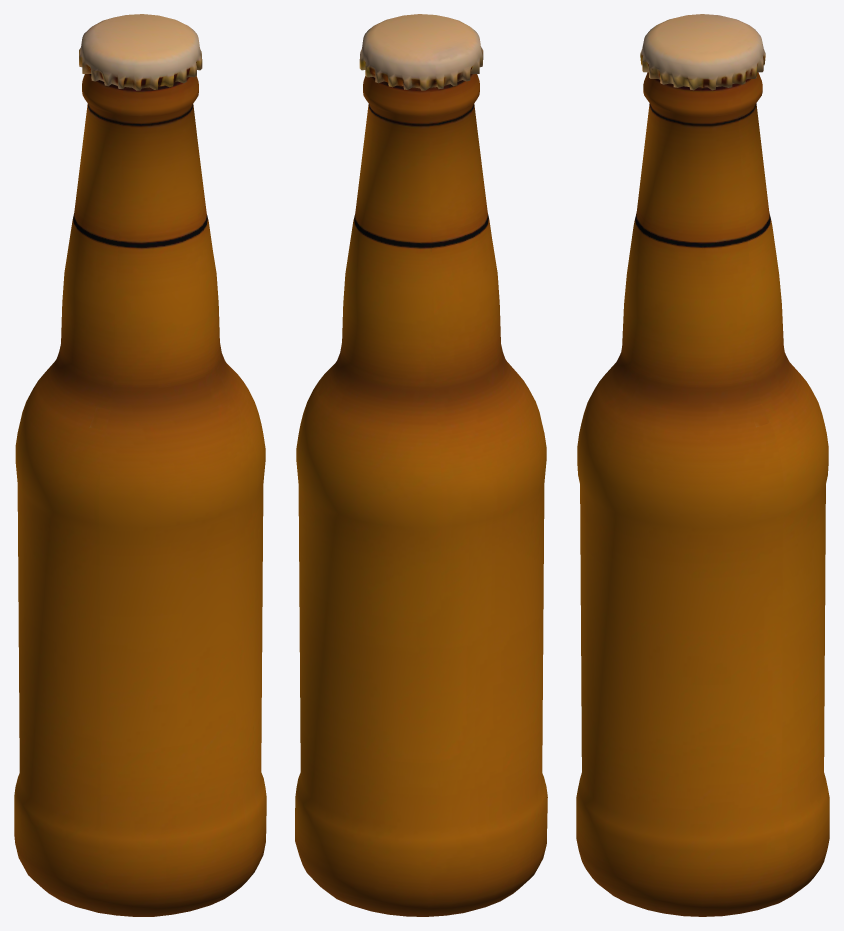
The model's file is BeerBottle3.glb.
3 renders of one model, left to right at view 1: azimuth 30°, elevation 25°; view 2: azimuth 150°, elevation 25°; view 3: azimuth 270°, elevation 25°, orthographic.
Visible parts, largest first — view 1: BeerBottle3; view 2: BeerBottle3; view 3: BeerBottle3.
Boxes of the visible parts, <box> form: BeerBottle3: <box>14,14,266,916</box>; BeerBottle3: <box>295,14,547,916</box>; BeerBottle3: <box>576,14,829,916</box>.
Size of the model in its own units: 0.5175 by 1.9 by 0.5175.
Materials: 1 (1 with a texture image).
